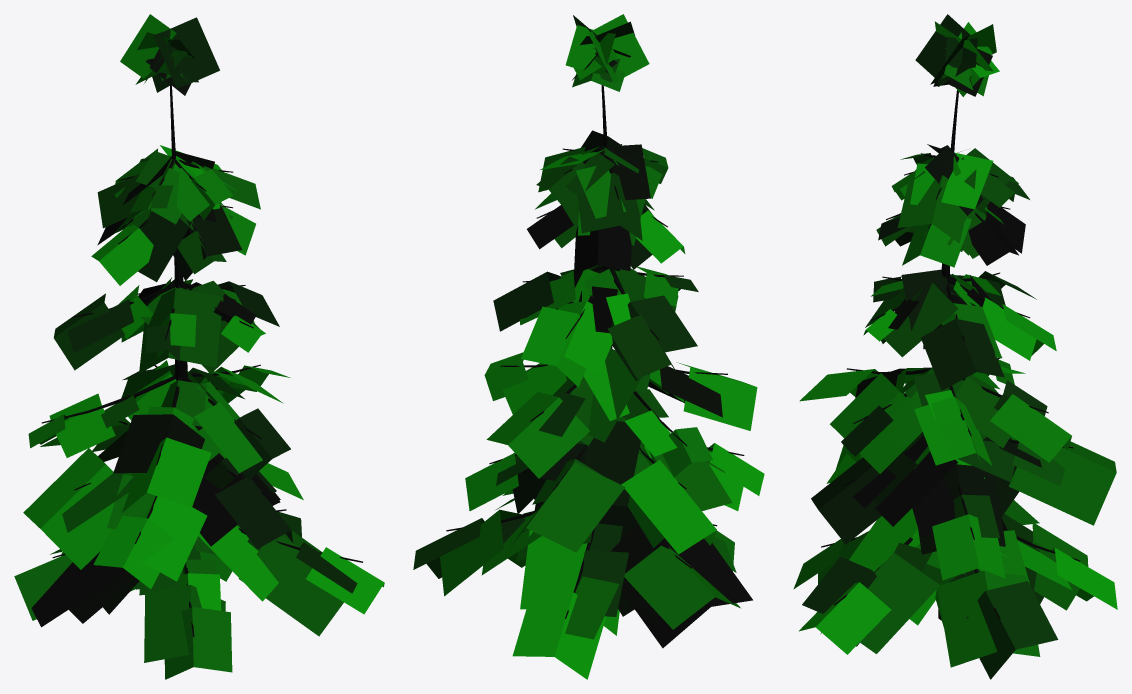
The picture shows the model from 3 angles, left to right: view 1: azimuth 30°, elevation 25°; view 2: azimuth 150°, elevation 25°; view 3: azimuth 270°, elevation 25°; orthographic projection.
Visible parts, largest first — view 1: IL3DN_Tree_Pine_02_OneMesh_LOD0; view 2: IL3DN_Tree_Pine_02_OneMesh_LOD0; view 3: IL3DN_Tree_Pine_02_OneMesh_LOD0.
Boxes of the visible parts, x1=… form: IL3DN_Tree_Pine_02_OneMesh_LOD0: x1=14, y1=14, x2=384, y2=679; IL3DN_Tree_Pine_02_OneMesh_LOD0: x1=413, y1=14, x2=764, y2=679; IL3DN_Tree_Pine_02_OneMesh_LOD0: x1=793, y1=14, x2=1117, y2=679.
Size of what is drawn, in the model's own units: 289 by 558 by 273.
